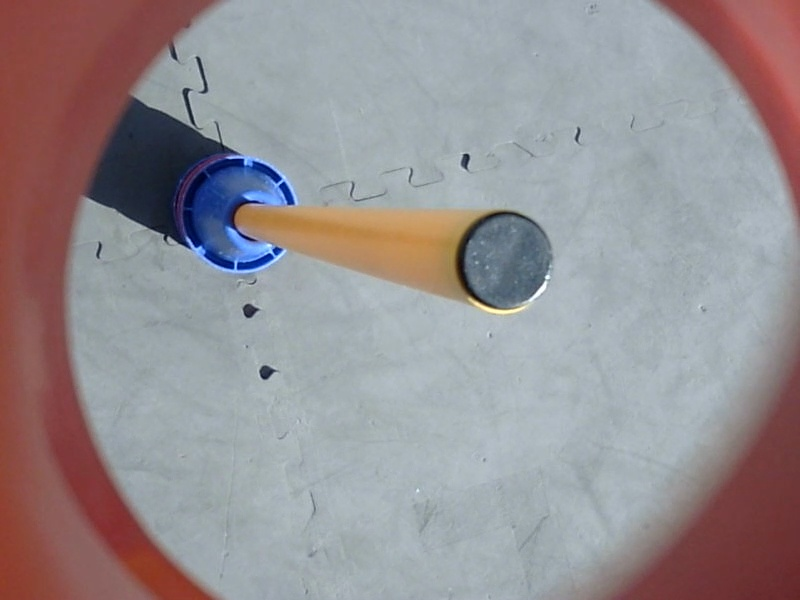tip: (449, 205, 559, 320)
